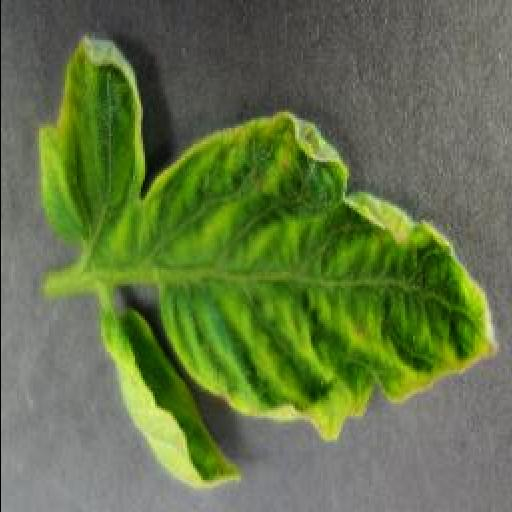disease_tomato: (38, 30, 500, 488)
